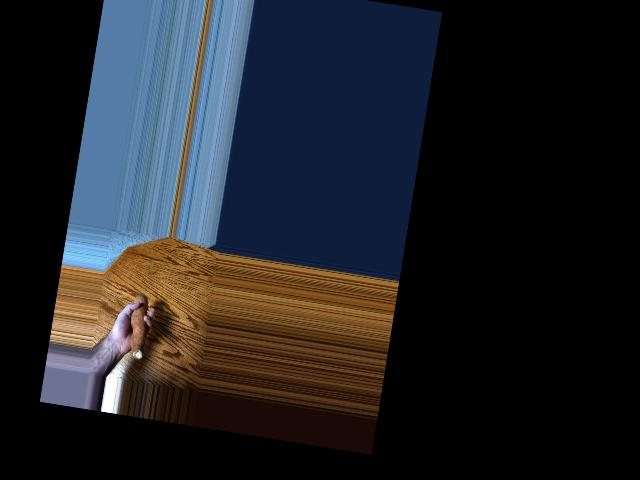sweet_potato: (127, 290, 155, 362)
